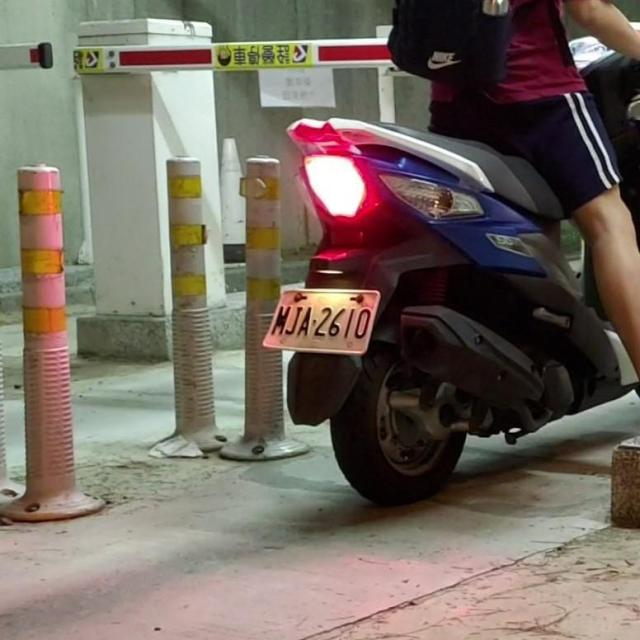W: (262, 282, 383, 356)
